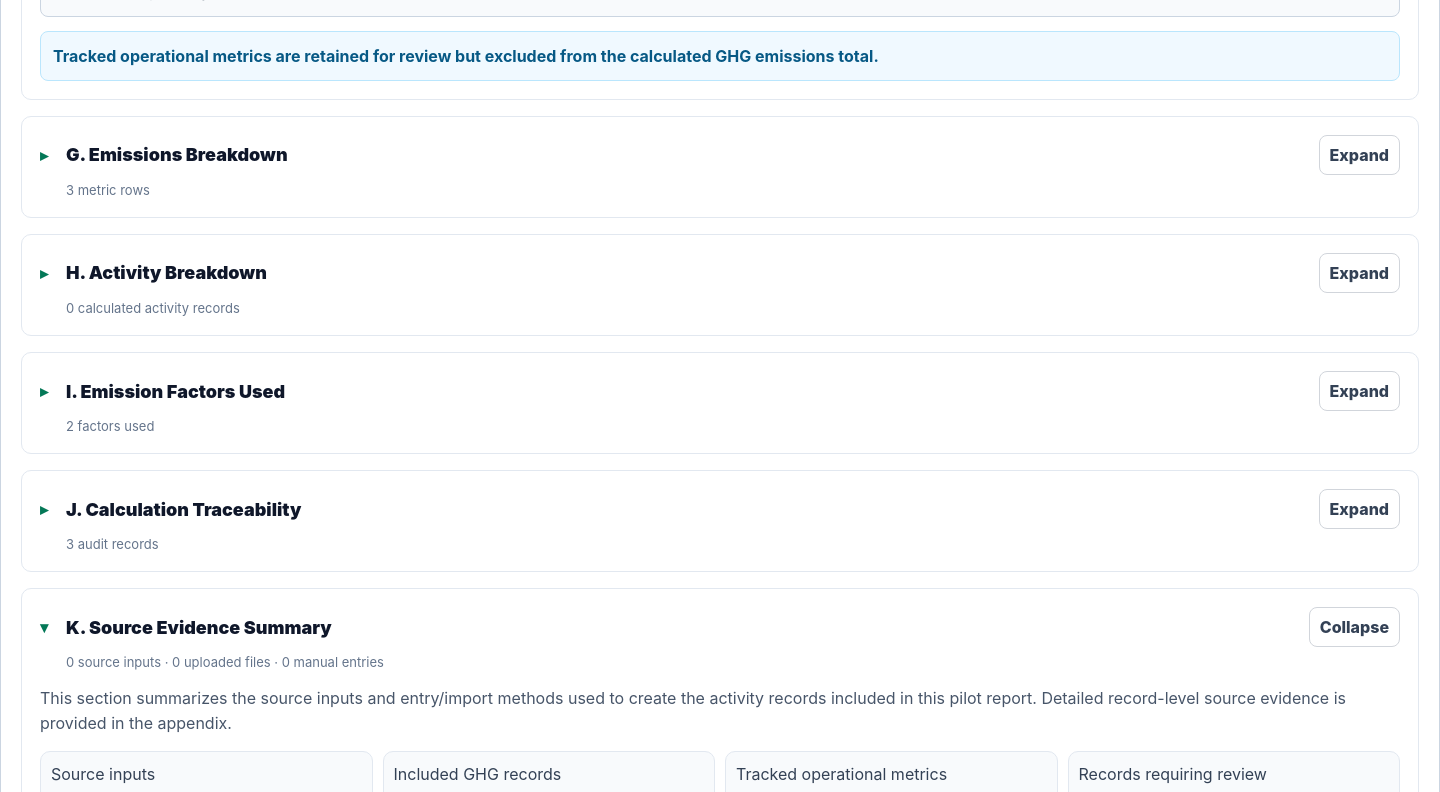
Test case: FormalReportPreview › renders only actual factors in the Emission Factors Used report table
This screenshot has width=1440, height=792.
(page scrolled)
Expected: the text "2 factors used" is shown, 66,418 -> 154,434
Click the button with aria-label "Expand I. Emission Factors Used" at (176, 391), box 40,371 -> 1400,411
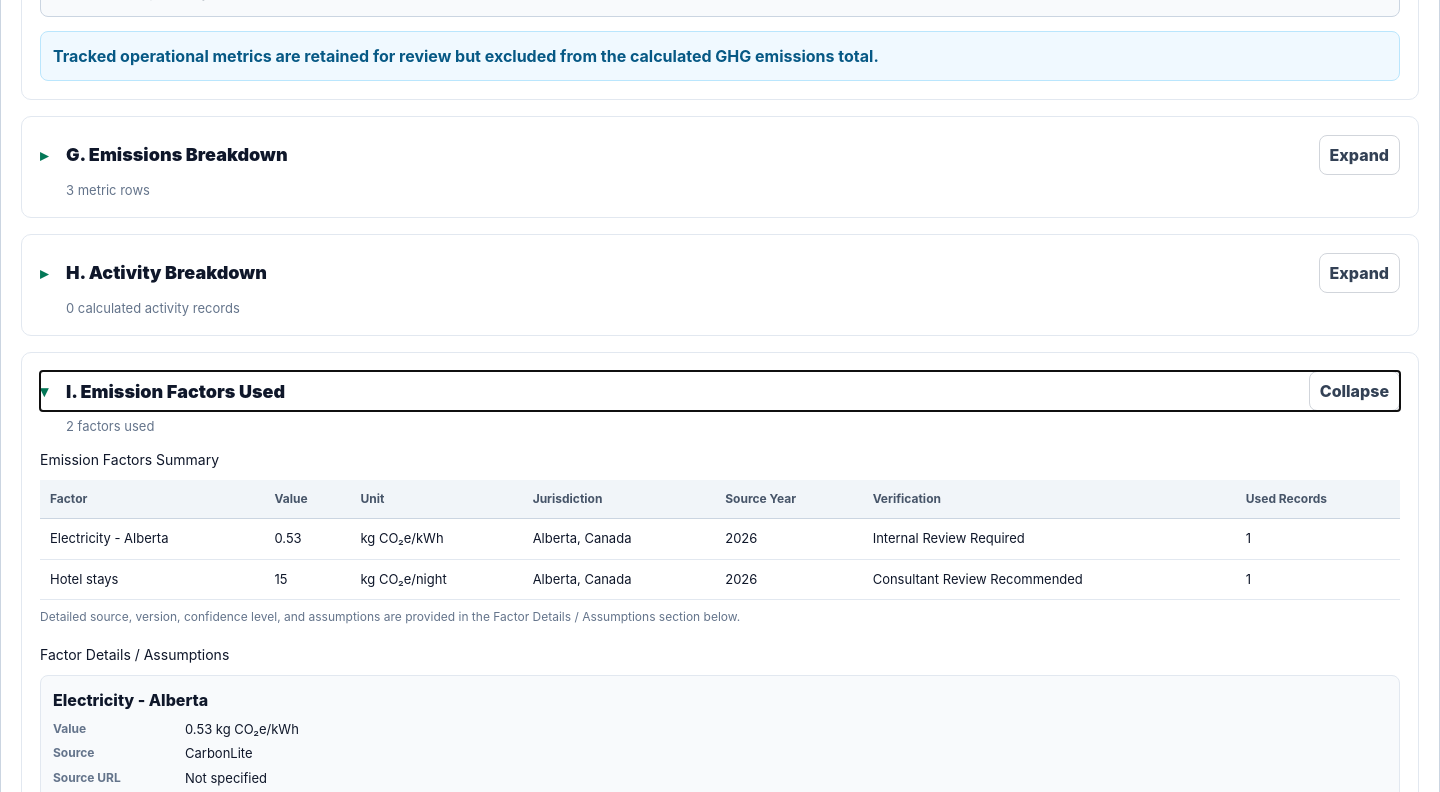
Result: the text "Emission Factors Summary" is shown at 40,451 -> 219,468
Result: the text "Electricity - Alberta" is shown at 40,519 -> 264,559
Result: the text "Hotel stays" is shown at 40,559 -> 264,600
